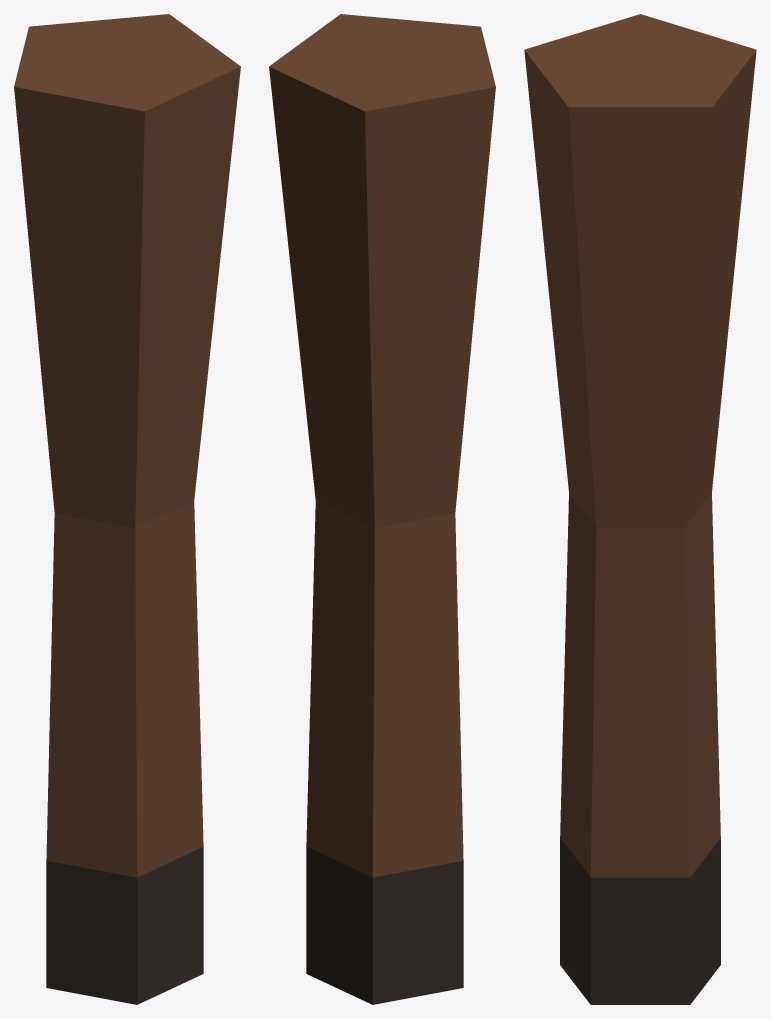
File: animal_horse_leg.obj
3 views of the same model, side by side, from view 1: azimuth 30°, elevation 25°; view 2: azimuth 150°, elevation 25°; view 3: azimuth 270°, elevation 25° (orthographic).
Visible parts, largest first — view 1: animal_horse_leg; view 2: animal_horse_leg; view 3: animal_horse_leg.
Boxes of the visible parts, bbox=[...] form: animal_horse_leg: bbox=[14, 14, 240, 1004]; animal_horse_leg: bbox=[269, 14, 495, 1004]; animal_horse_leg: bbox=[524, 14, 756, 1004].
Size of the model in its own units: 0.1661 by 0.7549 by 0.1746.
